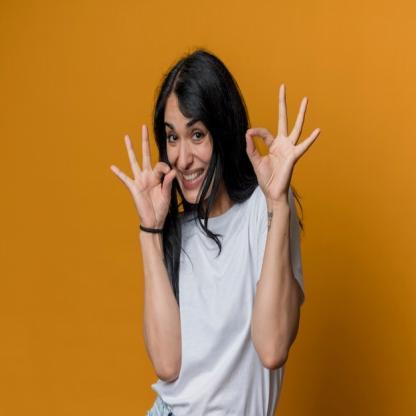ok: (239, 76, 323, 200), (112, 122, 178, 230)
